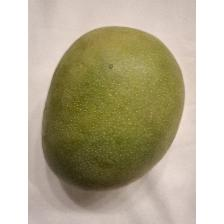Mango: (40, 25, 186, 195)
